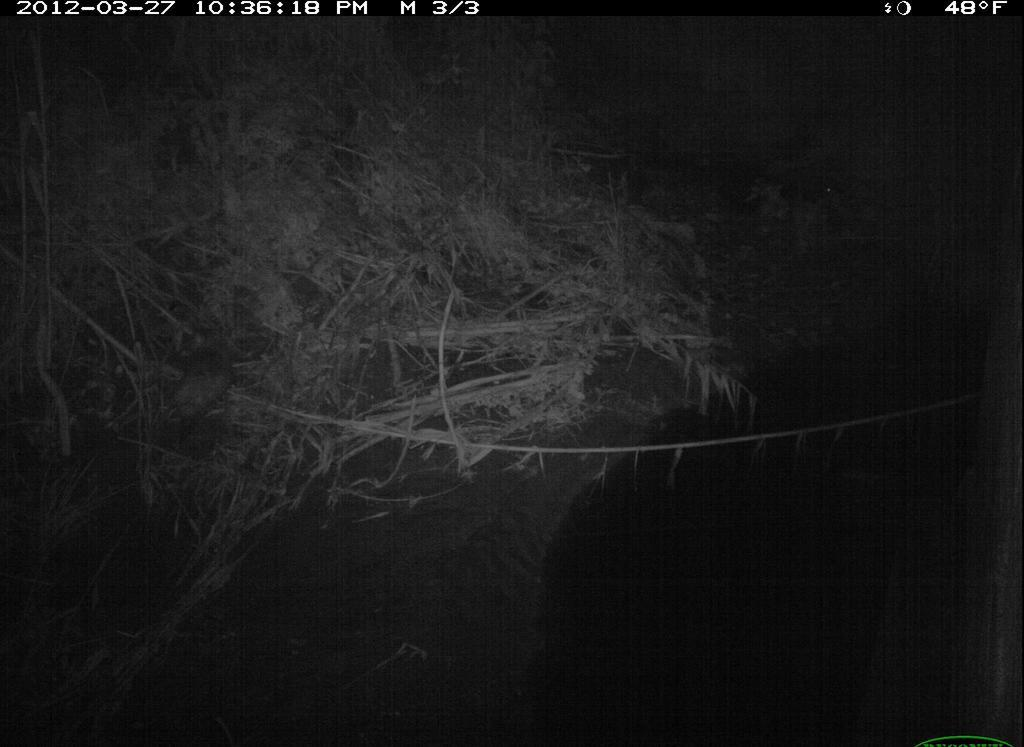opossum: (127, 306, 265, 462)
